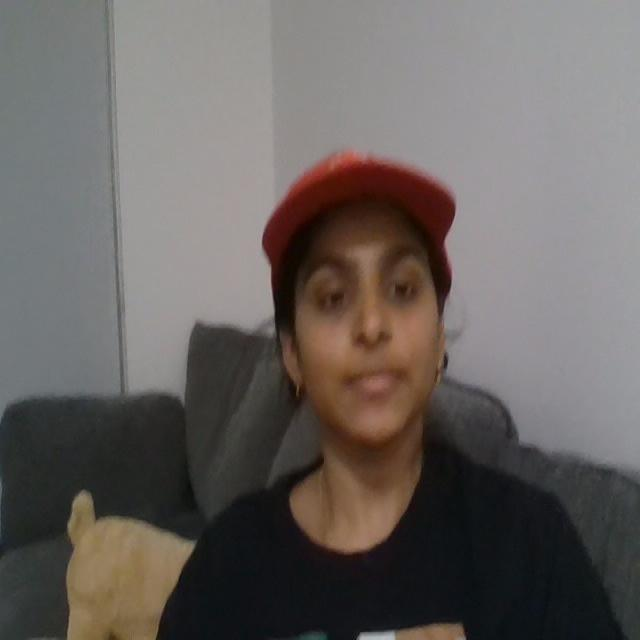Hat: (253, 133, 459, 255)
